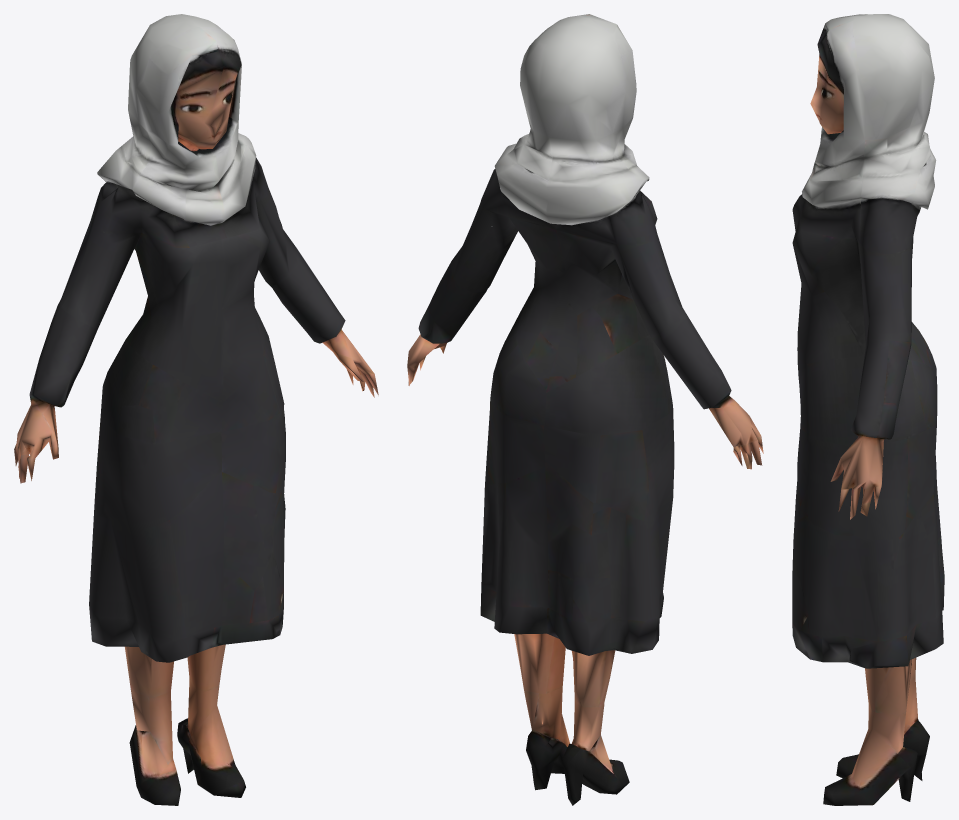
The model's file is person_hijab.glb.
3 views of the same model, side by side, from view 1: azimuth 30°, elevation 25°; view 2: azimuth 150°, elevation 25°; view 3: azimuth 270°, elevation 25° (orthographic).
Parts seen in each view (by area): view 1: tripo_node_c8ec8a0f-70c1-4c71-9846-cc519740ced0; view 2: tripo_node_c8ec8a0f-70c1-4c71-9846-cc519740ced0; view 3: tripo_node_c8ec8a0f-70c1-4c71-9846-cc519740ced0.
Boxes of the visible parts, <box> form: tripo_node_c8ec8a0f-70c1-4c71-9846-cc519740ced0: <box>14,14,378,805</box>; tripo_node_c8ec8a0f-70c1-4c71-9846-cc519740ced0: <box>407,14,763,805</box>; tripo_node_c8ec8a0f-70c1-4c71-9846-cc519740ced0: <box>792,14,944,805</box>.
Size of the model in its own units: 0.4715 by 0.9794 by 0.175.
1 material, 1 textured.
